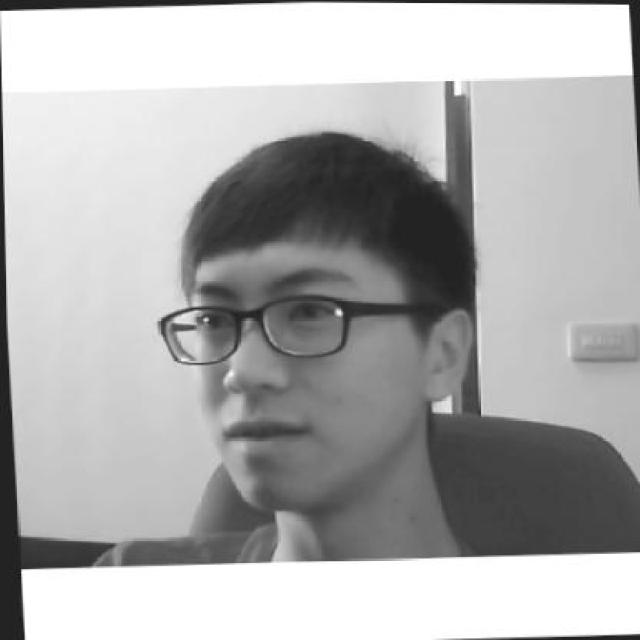attentif: (148, 124, 481, 516)
